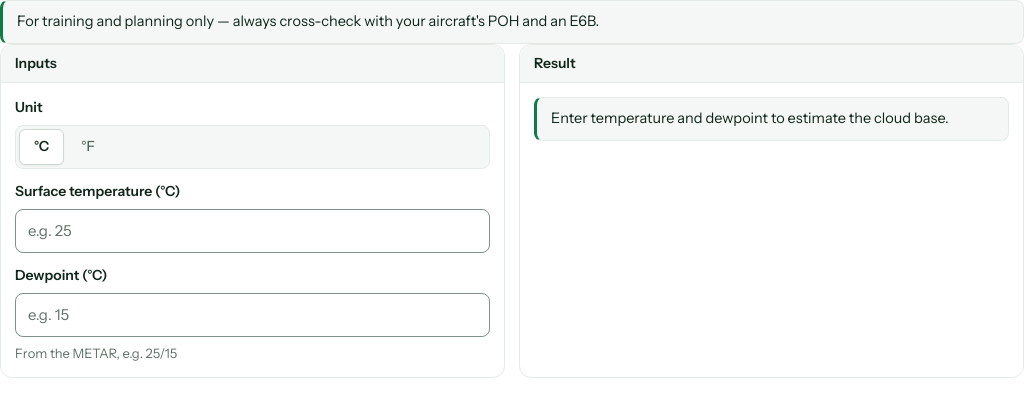
CloudBaseCalculator › 25 °C / 15 °C → 4,000 ft AGL and RH 54 %
Type "25" into the number field with placeholder "e.g. 25" at (252, 231), box [15,208,490,253]
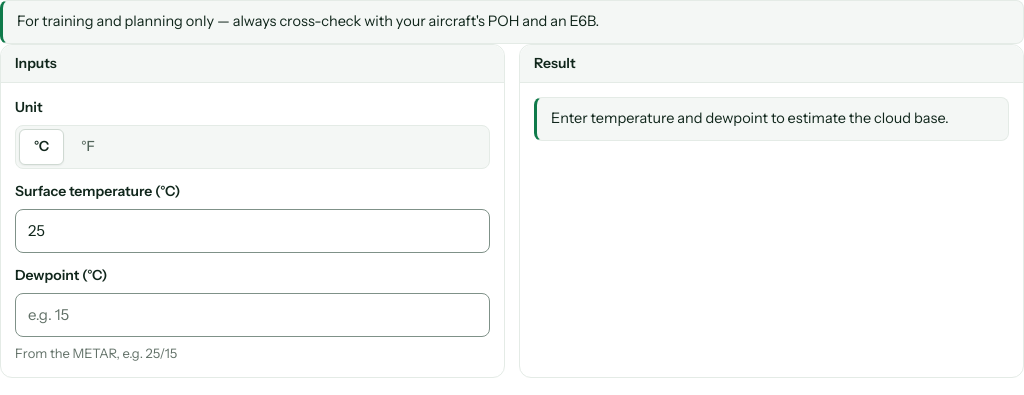
Type "15" into the number field with placeholder "e.g. 15" at (252, 315), box [15,293,490,337]
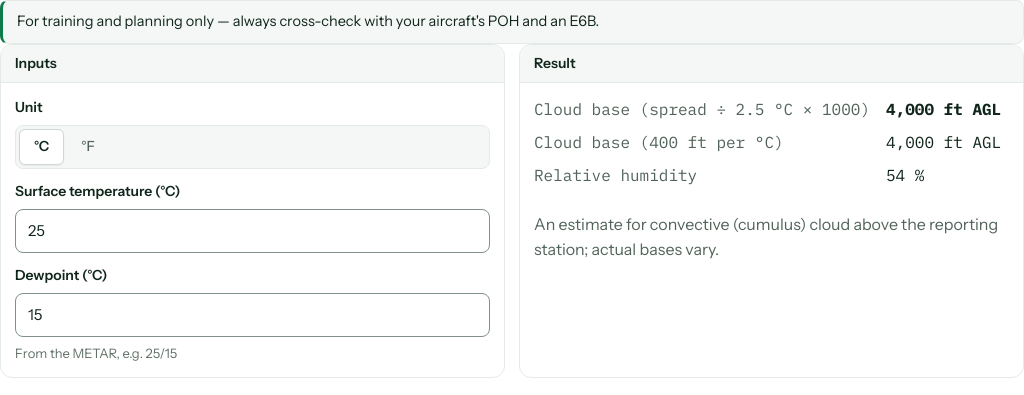
Expected: the text "4,000 ft AGL" is shown 2 times, [886,97,1009,122]; [886,130,1009,155]
Expected: the text "54 %" is shown, [886,165,924,185]
